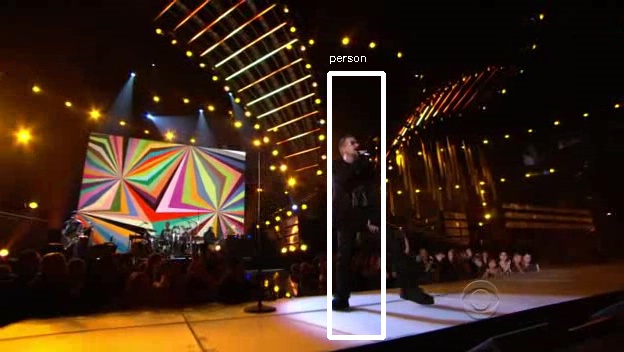person: (330, 133, 391, 246), (327, 133, 388, 246), (333, 133, 394, 246), (330, 130, 391, 243), (330, 136, 391, 249)
target_negative: (398, 69, 544, 250), (135, 243, 407, 295), (98, 231, 252, 318), (211, 316, 417, 335), (460, 278, 507, 320)
